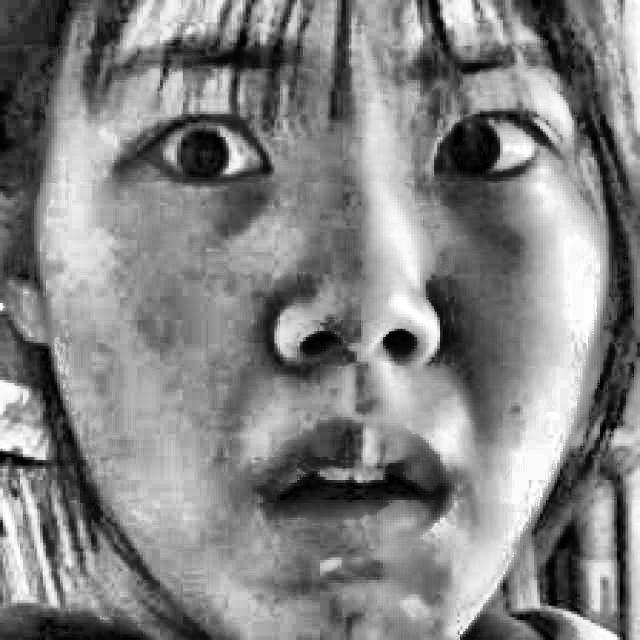fear: (85, 43, 575, 575)
